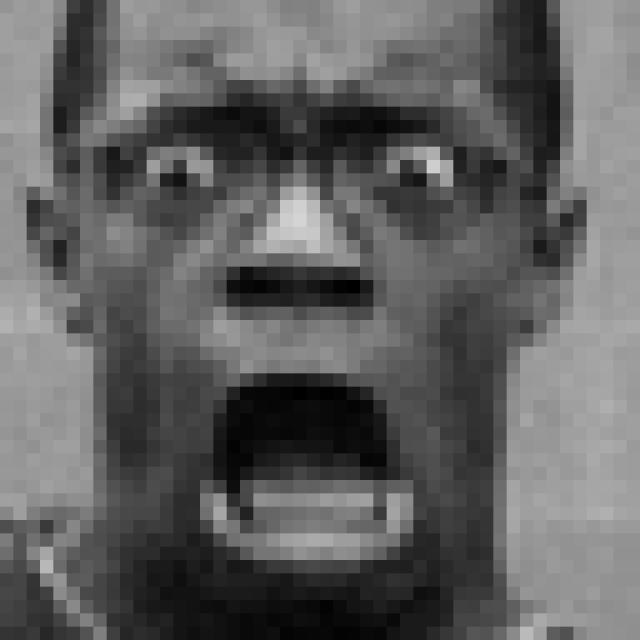fear: (116, 45, 491, 601)
